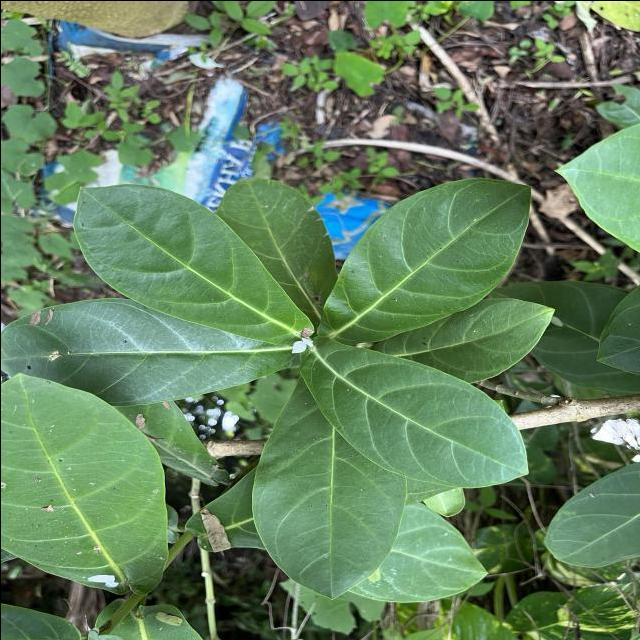Calotropis gigantea: (70, 182, 316, 348), (1, 369, 170, 597), (317, 175, 534, 348), (251, 376, 409, 600), (296, 341, 530, 488), (0, 294, 297, 406), (374, 296, 556, 383), (223, 175, 338, 312)
